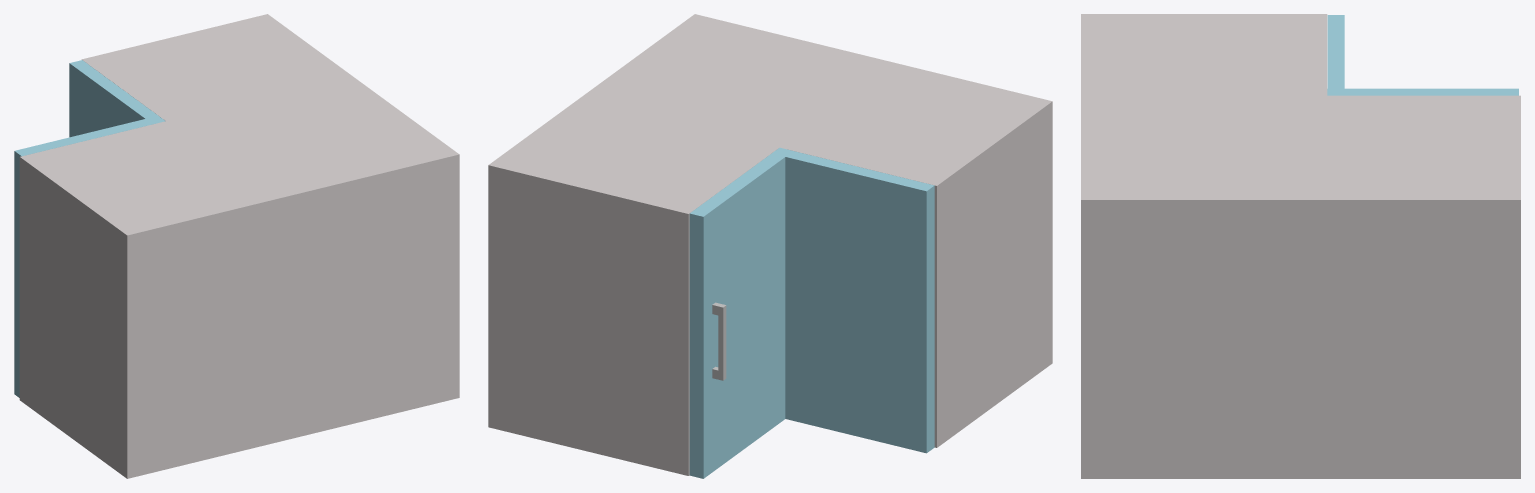
Rendered from Corner_Counter - NoParenting.fbx.
3 renders of one model, left to right at view 1: azimuth 30°, elevation 25°; view 2: azimuth 150°, elevation 25°; view 3: azimuth 270°, elevation 25°, orthographic. The views are drawn at different scales.
Parts seen in each view (by area): view 1: Corner_Counter, Door - Corner_counter; view 2: Corner_Counter, Door - Corner_counter; view 3: Corner_Counter, Door - Corner_counter.
Boxes of the visible parts, x1=… form: Corner_Counter: x1=19, y1=14, x2=459, y2=478; Door - Corner_counter: x1=14, y1=60, x2=165, y2=397; Corner_Counter: x1=488, y1=14, x2=1052, y2=475; Door - Corner_counter: x1=689, y1=147, x2=934, y2=478; Corner_Counter: x1=1081, y1=14, x2=1520, y2=478; Door - Corner_counter: x1=1327, y1=15, x2=1518, y2=95.
Bounding box in the file's own units: 1 × 0.7 × 1.
